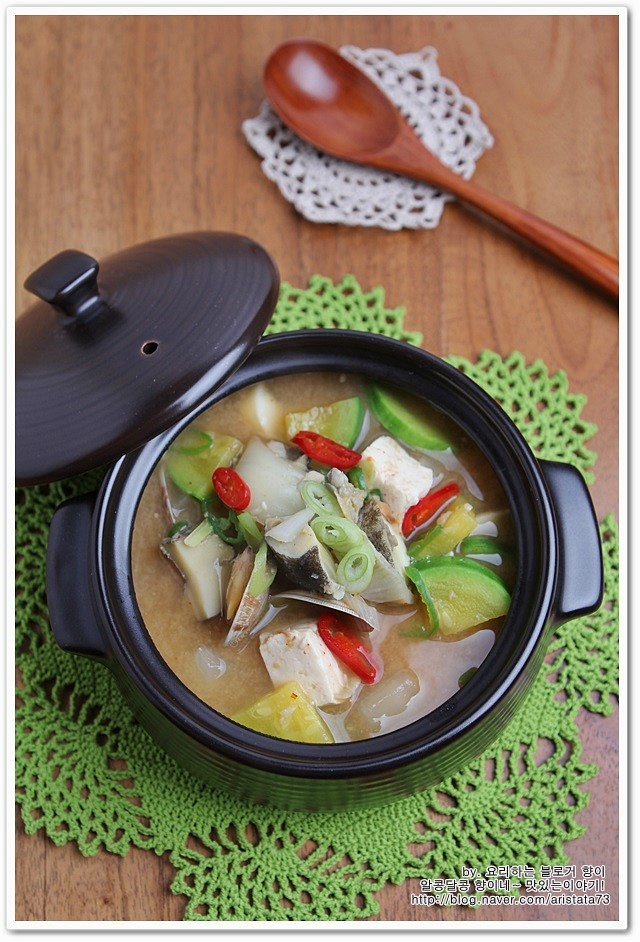doenjangjjigae: (135, 366, 516, 739)
